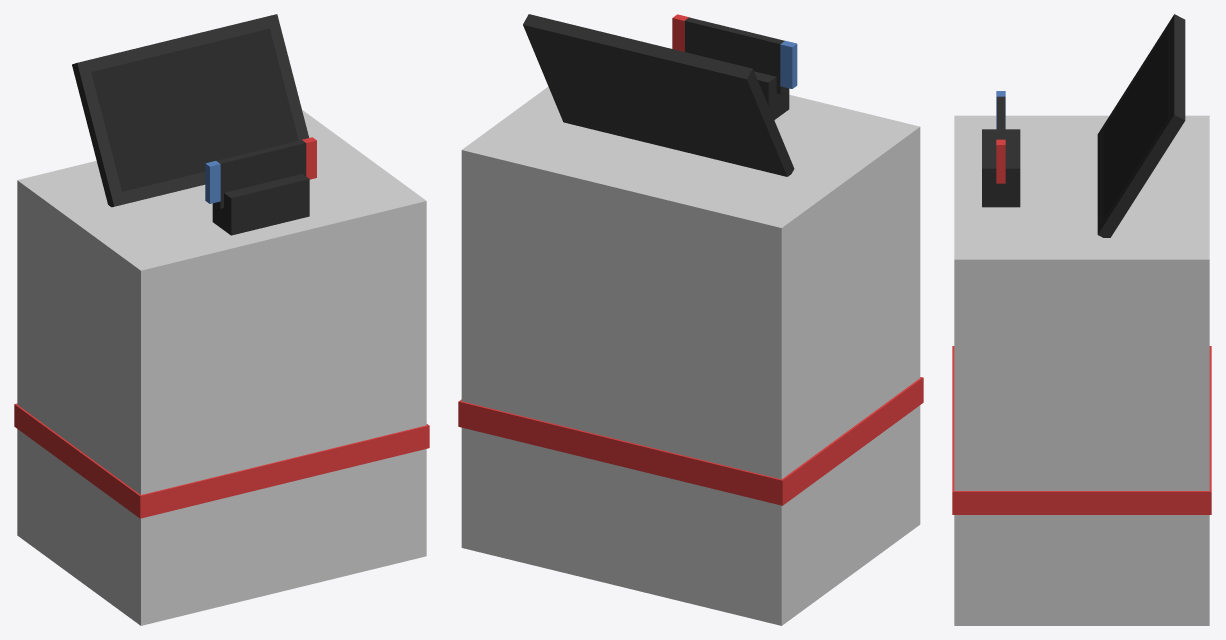
File: nintendo_demo_kiosk.glb
The picture shows the model from 3 angles, left to right: view 1: azimuth 30°, elevation 25°; view 2: azimuth 150°, elevation 25°; view 3: azimuth 270°, elevation 25°; orthographic projection. The views are drawn at different scales.
Visible parts, largest first — view 1: nintendo_demo_kiosk, screen; view 2: nintendo_demo_kiosk; view 3: nintendo_demo_kiosk, screen.
Part boxes in pixels (<box>): nintendo_demo_kiosk: <box>14,14,429,625</box>; screen: <box>91,28,298,191</box>; nintendo_demo_kiosk: <box>458,14,923,625</box>; nintendo_demo_kiosk: <box>952,14,1211,625</box>; screen: <box>1103,29,1167,218</box>.
Bounding box in the file's own units: 0.81 × 1.27 × 0.61.
